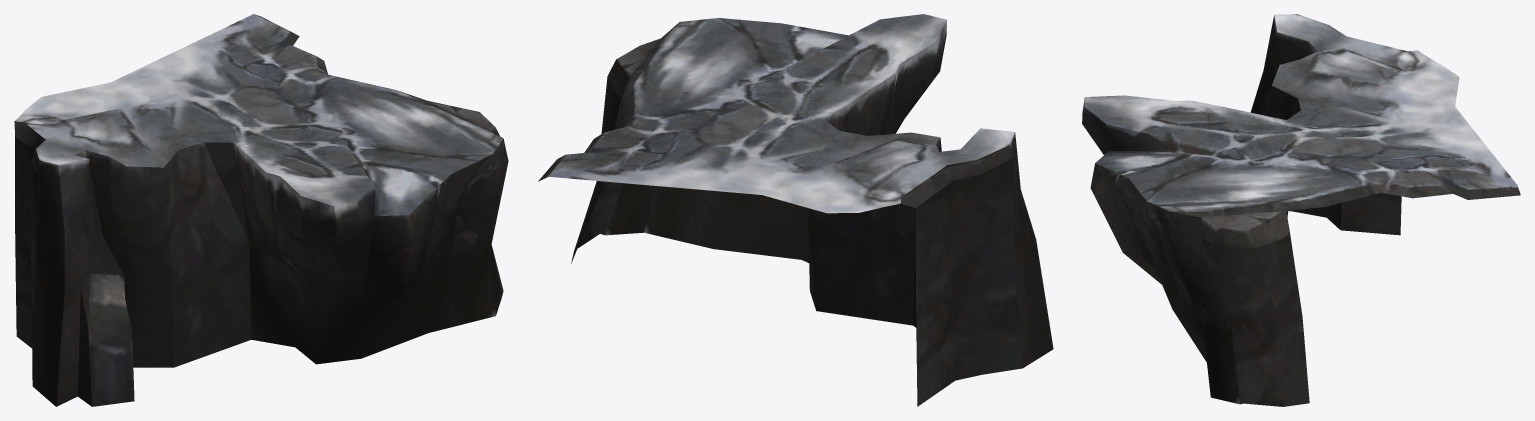
Rendered from 2005_Item_shitou_3.FBX.
3 views of the same model, side by side, from view 1: azimuth 30°, elevation 25°; view 2: azimuth 150°, elevation 25°; view 3: azimuth 270°, elevation 25° (orthographic). The views are drawn at different scales.
Parts seen in each view (by area): view 1: 2005_Item_shitou_3; view 2: 2005_Item_shitou_3; view 3: 2005_Item_shitou_3.
Boxes of the visible parts, <box> form: 2005_Item_shitou_3: <box>14,14,508,406</box>; 2005_Item_shitou_3: <box>538,14,1053,406</box>; 2005_Item_shitou_3: <box>1082,14,1520,406</box>.
Size of the model in its own units: 310 by 150 by 286.
